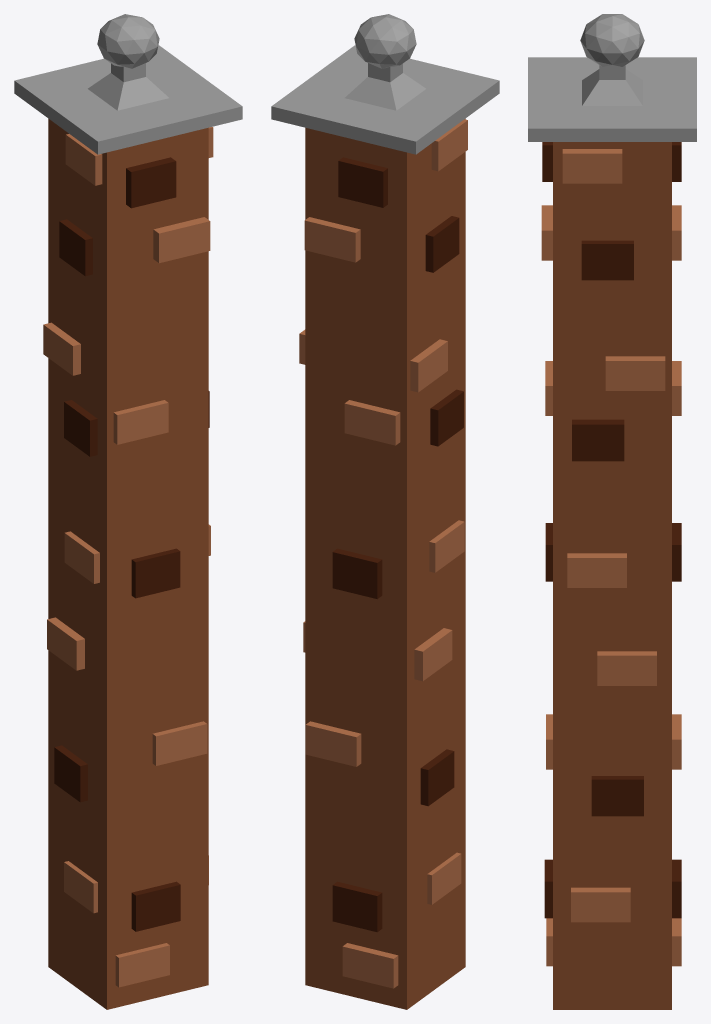
Rendered from Wall_2.fbx.
3 views of the same model, side by side, from view 1: azimuth 30°, elevation 25°; view 2: azimuth 150°, elevation 25°; view 3: azimuth 270°, elevation 25° (orthographic).
Visible parts, largest first — view 1: Cube, Cube.001, Icosphere, Cube.031, Cube.016, Cube.029, Cube.030, Cube.017, Cube.018, Cube.019, Cube.023, Cube.025 (+6 smaller); view 2: Cube, Cube.001, Icosphere, Cube.021, Cube.022, Cube.020, Cube.009, Cube.007, Cube.008, Cube.010, Cube.025, Cube.023 (+6 smaller); view 3: Cube, Cube.001, Icosphere, Cube.027, Cube.028, Cube.026, Cube.006, Cube.002, Cube.003, Cube.004, Cube.005, Cube.016 (+10 smaller).
Part boxes in pixels (bbox=[...]): Cube: bbox=[48, 118, 208, 1009]; Cube.001: bbox=[14, 45, 242, 154]; Icosphere: bbox=[97, 14, 159, 68]; Cube.031: bbox=[126, 157, 176, 208]; Cube.016: bbox=[153, 217, 210, 263]; Cube.029: bbox=[131, 881, 180, 931]; Cube.030: bbox=[131, 548, 180, 598]; Cube.017: bbox=[113, 400, 168, 444]; Cube.018: bbox=[152, 721, 207, 765]; Cube.019: bbox=[115, 943, 169, 987]; Cube.023: bbox=[54, 745, 87, 802]; Cube.025: bbox=[59, 219, 92, 276]; Cube: bbox=[305, 118, 465, 1009]; Cube.001: bbox=[271, 45, 499, 154]; Icosphere: bbox=[354, 14, 416, 68]; Cube.021: bbox=[332, 548, 382, 599]; Cube.022: bbox=[332, 881, 382, 932]; Cube.020: bbox=[338, 157, 387, 207]; Cube.009: bbox=[305, 721, 361, 766]; Cube.007: bbox=[304, 217, 360, 262]; Cube.008: bbox=[344, 400, 400, 445]; Cube.010: bbox=[342, 943, 398, 988]; Cube.025: bbox=[425, 216, 459, 272]; Cube.023: bbox=[420, 749, 454, 806]; Cube: bbox=[553, 142, 671, 1009]; Cube.001: bbox=[528, 57, 696, 141]; Icosphere: bbox=[580, 14, 644, 66]; Cube.027: bbox=[572, 419, 624, 461]; Cube.028: bbox=[591, 776, 643, 816]; Cube.026: bbox=[581, 240, 633, 280]; Cube.006: bbox=[571, 887, 630, 922]; Cube.002: bbox=[562, 149, 622, 183]; Cube.003: bbox=[605, 356, 665, 390]; Cube.004: bbox=[567, 553, 626, 587]; Cube.005: bbox=[597, 651, 656, 685]; Cube.016: bbox=[541, 205, 552, 260].
Size of the model in its own units: 336 by 2124 by 336.
